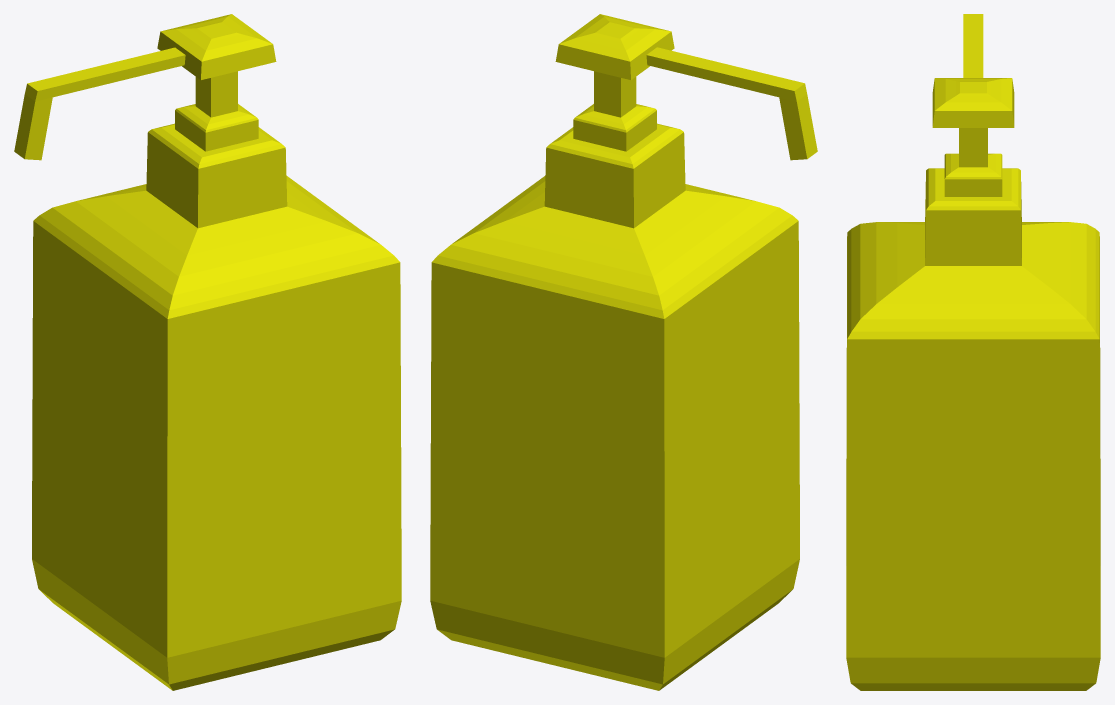
File: アルコール.fbx
The picture shows the model from 3 angles, left to right: view 1: azimuth 30°, elevation 25°; view 2: azimuth 150°, elevation 25°; view 3: azimuth 270°, elevation 25°; orthographic projection. The views are drawn at different scales.
Parts seen in each view (by area): view 1: 立方体, 立方体.001; view 2: 立方体, 立方体.001; view 3: 立方体, 立方体.001.
Part boxes in pixels (x1,y1,x2,y2): 立方体: (32, 104, 401, 690); 立方体.001: (14, 14, 276, 160); 立方体: (430, 104, 799, 690); 立方体.001: (555, 14, 817, 160); 立方体: (846, 153, 1100, 690); 立方体.001: (932, 14, 1014, 167).
Size of the model in its own units: 2.68 by 4.88 by 2.
